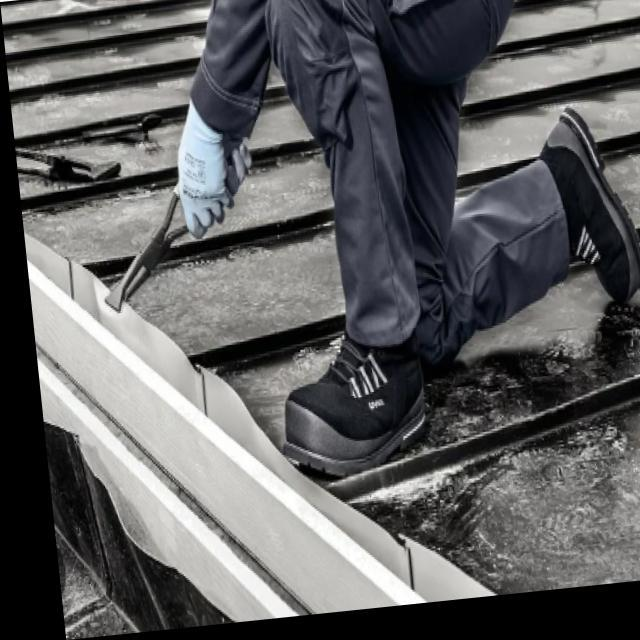shoes: (253, 96, 640, 483)
